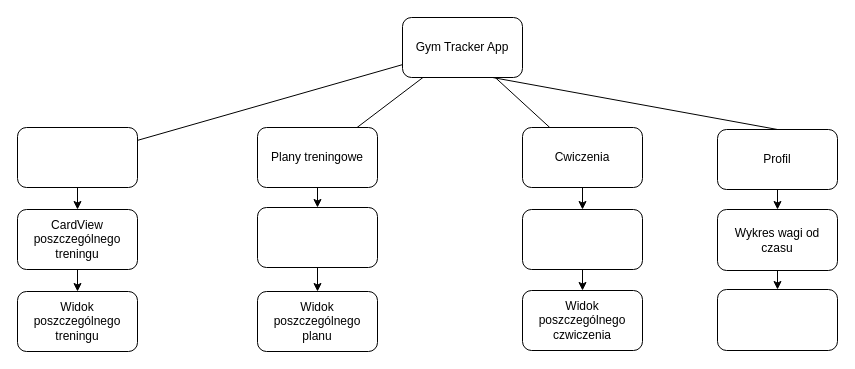
Image size: 855x369. Some labels were removed from this diagram. The shapes that lost their labels are listed below. From the top down, each one's box as (x1, y1, x2, y2) in pixels, then its label:
(16, 126, 138, 188): Moje Treningi
(256, 206, 378, 268): CardView poszczególnego planu
(522, 208, 642, 270): CardView poszczególnego Cwiczenia
(716, 288, 838, 350): Dane użytkownika
